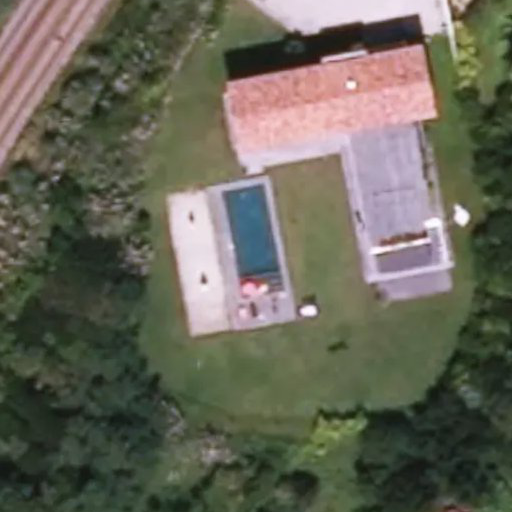pool: (220, 182, 292, 304)
